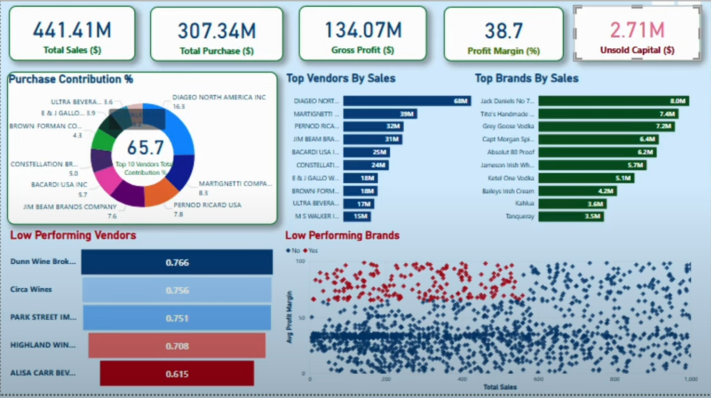

This screenshot's page, from the dashboard's own definition file:
{"tool":"powerbi","page":{"name":"Page 1","canvas":[1500,900],"ordinal":0},"visuals":[{"type":"card","fields":{"Values":["Sum(vendor_sales_summary.TotalPurchaseDollars)"]},"box":[315.8,82.4,280.9,114.6],"z":0},{"type":"card","fields":{"Values":["Sum(vendor_sales_summary.TotalSalesDollars)"]},"box":[16.8,81,266.9,116],"z":1000},{"type":"card","fields":{"Values":["Sum(vendor_sales_summary.GrossProfit)"]},"box":[630.2,81,269.7,116],"z":2000},{"type":"card","fields":{"Values":["Sum(vendor_sales_summary.ProfitMargin)"]},"box":[934.8,82.4,252.9,114.6],"z":3000},{"type":"card","fields":{"Values":["Sum(vendor_sales_summary.UnsoldCapital)"]},"box":[1210.1,81,268.3,116],"z":4000},{"type":"textbox","box":[0,0,1500,83],"z":5000},{"type":"donutChart","title":"Purchase Contribution % ","fields":{"Category":["PurchaseContribution.VendorName"],"Y":["Sum(PurchaseContribution.PurchaseContribution%)"]},"box":[14.5,219.4,571,322.6],"z":6000},{"type":"card","fields":{"Values":["Sum(PurchaseContribution.PurchaseContribution%)"]},"box":[211.8,266.7,188.2,233.3],"z":7000},{"type":"barChart","title":"Top Vendors By Sales","fields":{"Category":["vendor_sales_summary.VendorName"],"Y":["Sum(vendor_sales_summary.TotalSalesDollars)"]},"box":[597.3,219.2,447.9,332.9],"z":8000},{"type":"barChart","title":"Top Brands By Sales","fields":{"Category":["vendor_sales_summary.Description"],"Y":["Sum(vendor_sales_summary.TotalSalesDollars)"]},"box":[995.9,219.2,504.1,332.9],"z":9000},{"type":"funnel","title":"Low Performing Vendors","fields":{"Category":["LowTurnoverVendor.VendorName"],"Y":["Avg(LowTurnoverVendor.AvgStockTurnOver)"]},"box":[16.1,551.6,569.4,348.4],"z":10000},{"type":"scatterChart","title":"Low Performing Brands","fields":{"X":["Sum(BrandPerformance.TotalSales)"],"Y":["Sum(BrandPerformance.AvgProfitMargin)"],"Series":["BrandPerformance.TargetBrand"],"Category":["BrandPerformance.Description"]},"box":[596.8,551.6,880.6,348.4],"z":11000}]}

Visuals, with their boxes on the page's 1500x900 design canvas (x1, y1, x2, y2). These are canvas units, not pixel positions in the 711x398 screenshot, which may show the page scaled, cropped or inside an application window:
card - Sum(vendor_sales_summary.TotalPurchaseDollars): [x1=316, y1=82, x2=597, y2=197]
card - Sum(vendor_sales_summary.TotalSalesDollars): [x1=17, y1=81, x2=284, y2=197]
card - Sum(vendor_sales_summary.GrossProfit): [x1=630, y1=81, x2=900, y2=197]
card - Sum(vendor_sales_summary.ProfitMargin): [x1=935, y1=82, x2=1188, y2=197]
card - Sum(vendor_sales_summary.UnsoldCapital): [x1=1210, y1=81, x2=1478, y2=197]
textbox: [x1=0, y1=0, x2=1500, y2=83]
"Purchase Contribution % " donutChart: [x1=14, y1=219, x2=586, y2=542]
card - Sum(PurchaseContribution.PurchaseContribution%): [x1=212, y1=267, x2=400, y2=500]
"Top Vendors By Sales" barChart: [x1=597, y1=219, x2=1045, y2=552]
"Top Brands By Sales" barChart: [x1=996, y1=219, x2=1500, y2=552]
"Low Performing Vendors" funnel: [x1=16, y1=552, x2=586, y2=900]
"Low Performing Brands" scatterChart: [x1=597, y1=552, x2=1477, y2=900]
